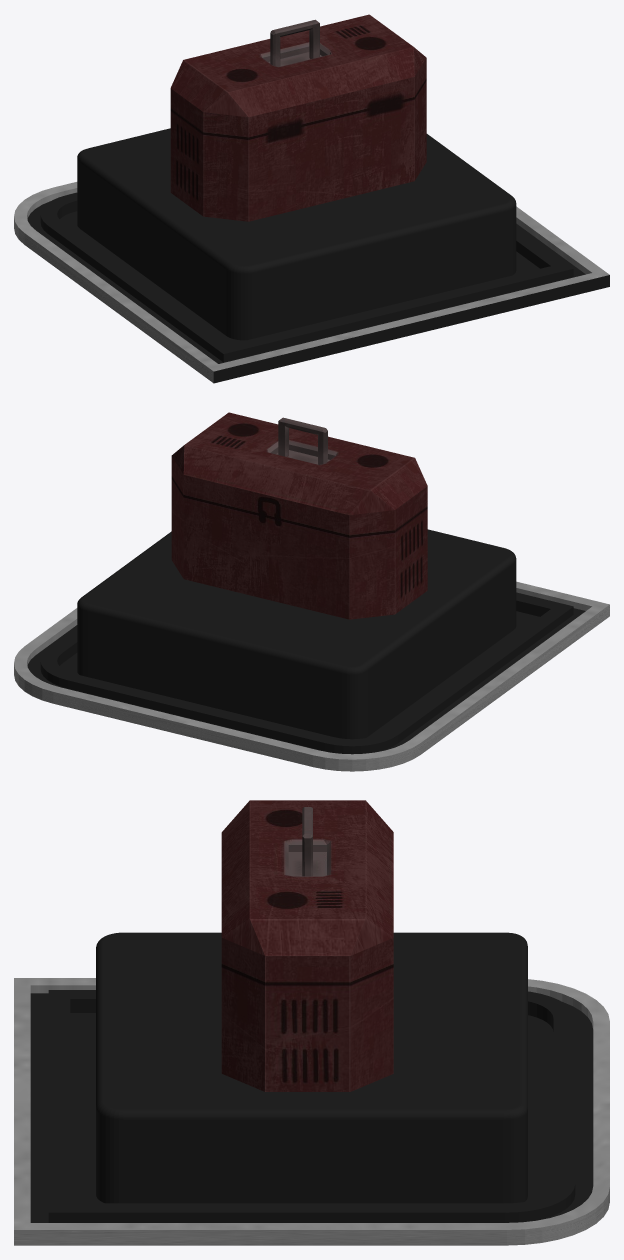
File: MagneticLock.gltf
3 renders of one model, top to bottom at view 1: azimuth 30°, elevation 25°; view 2: azimuth 150°, elevation 25°; view 3: azimuth 270°, elevation 25°, orthographic. The views are drawn at different scales.
Visible parts, largest first — view 1: MagneticLock, repair_kit_repair_kit_0; view 2: MagneticLock, repair_kit_repair_kit_0; view 3: MagneticLock, repair_kit_repair_kit_0.
Boxes of the visible parts, x1,y1,x2,y2 form: MagneticLock: [14, 128, 609, 383]; repair_kit_repair_kit_0: [170, 14, 426, 221]; MagneticLock: [14, 529, 609, 771]; repair_kit_repair_kit_0: [171, 412, 427, 619]; MagneticLock: [14, 932, 609, 1245]; repair_kit_repair_kit_0: [221, 800, 393, 1091].
Size of the model in its own units: 2 by 1.1 by 2.
3 materials, 2 textured.
